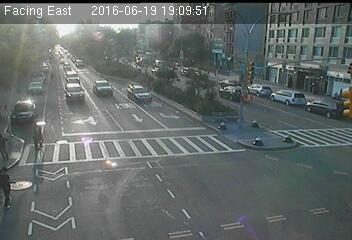neg: (154, 62, 175, 90)
